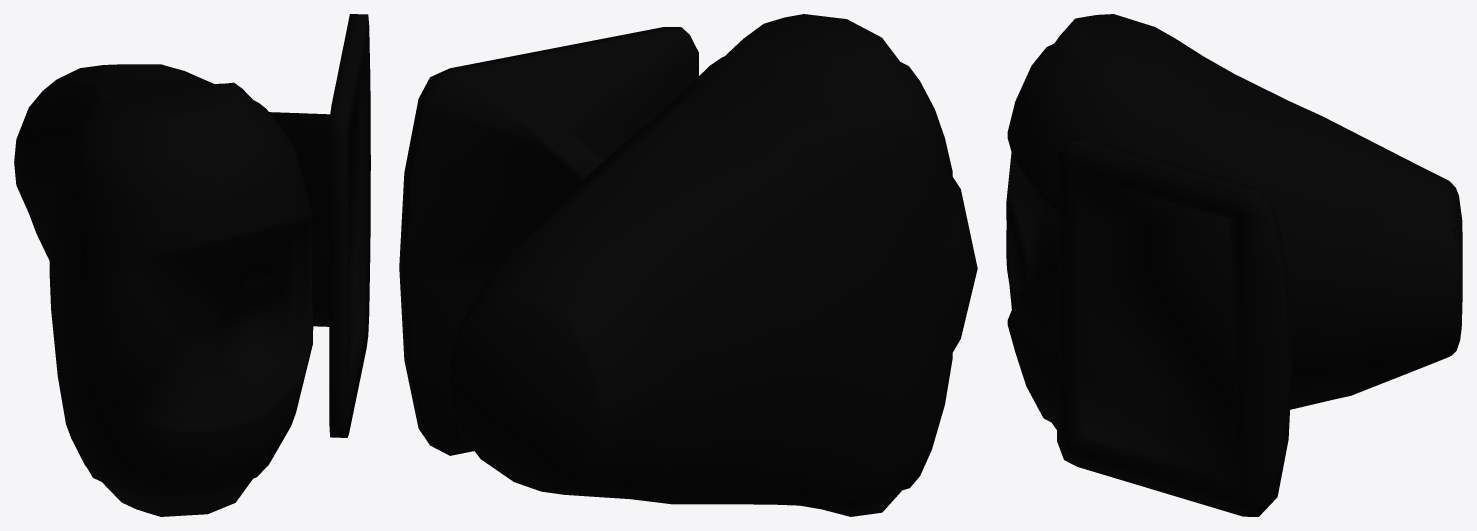
File: Torso.obj
3 views of the same model, side by side, from view 1: azimuth 30°, elevation 25°; view 2: azimuth 150°, elevation 25°; view 3: azimuth 270°, elevation 25° (orthographic). The views are drawn at different scales.
Size of the model in its own units: 2.92 by 2.93 by 3.07.
